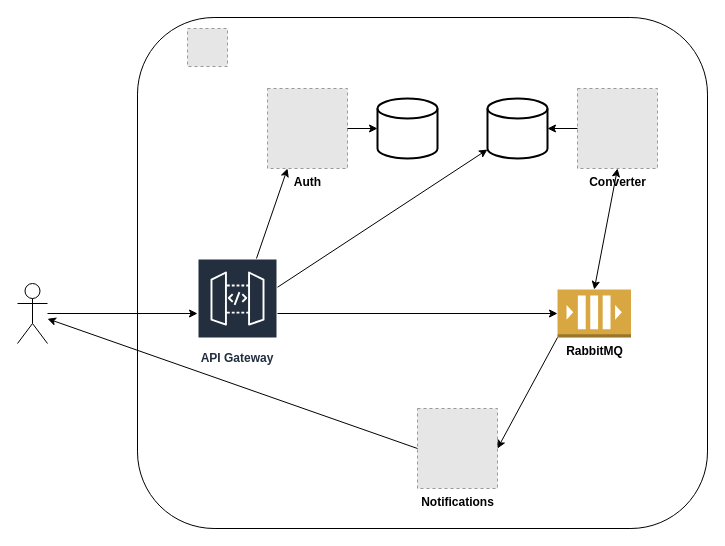
This 725x546 diagram has some shape labels left out. Grey dashed boxes stand in for pictures. Here are the shapes that lost their labels. From the top down, the box of each, then its label:
(376, 97, 438, 159): Auth DB
(486, 97, 548, 159): Storage DB
(16, 282, 48, 344): Client
